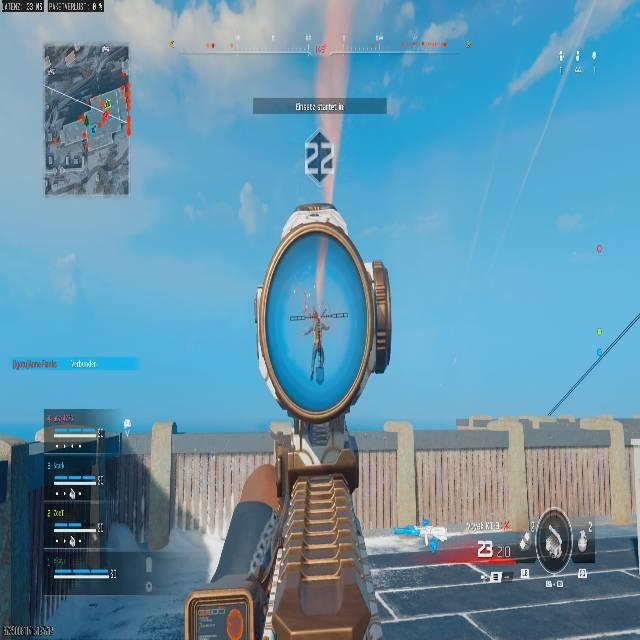player: (305, 129, 333, 183)
